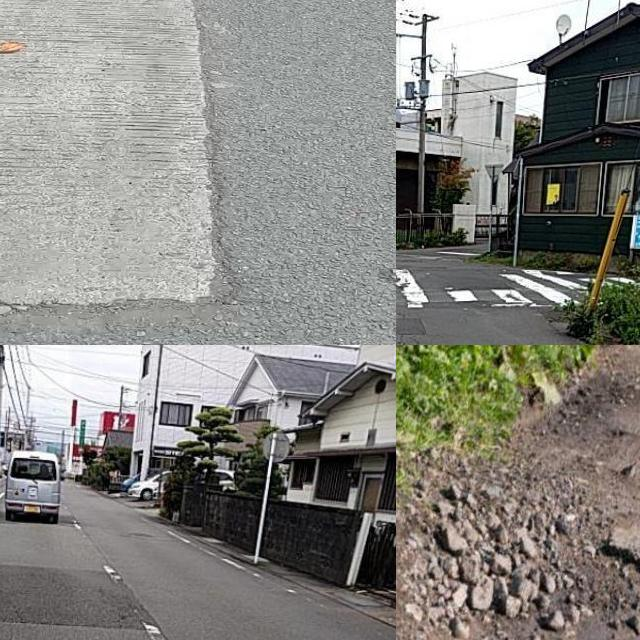Sambungan: (0, 0, 221, 305), (0, 563, 164, 631)
